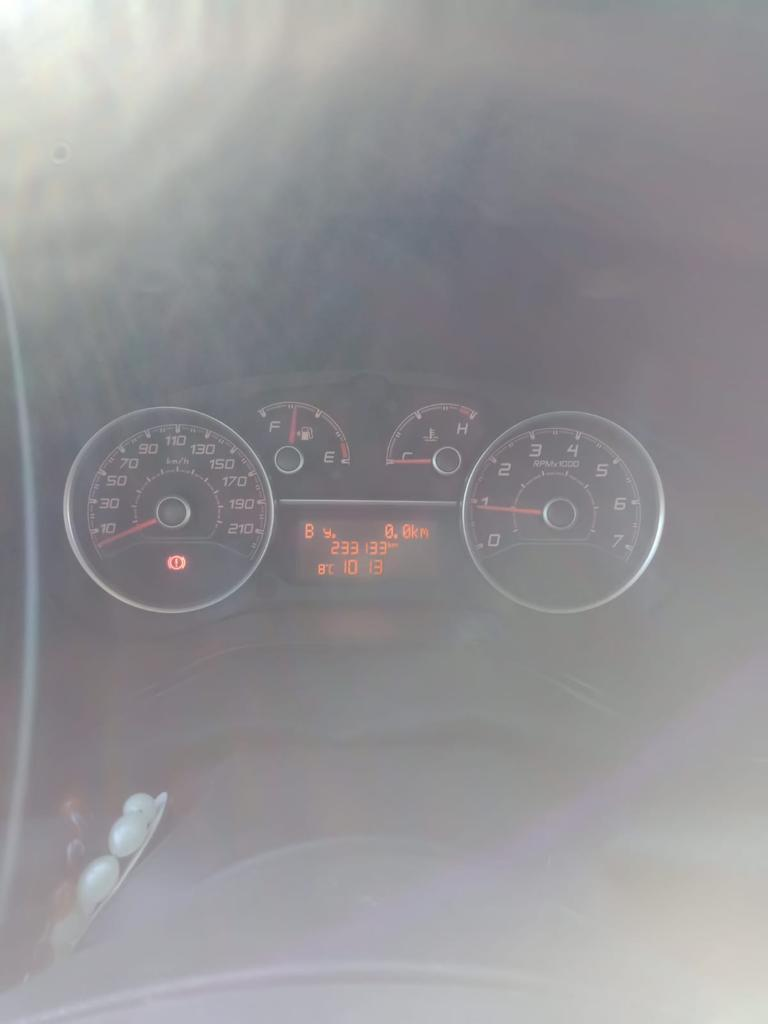,: (331, 532, 336, 539), (393, 532, 397, 539)
0: (347, 558, 358, 575), (383, 522, 394, 539), (401, 523, 411, 539)
1: (342, 558, 347, 575), (363, 541, 368, 555), (368, 558, 372, 575)
2: (329, 540, 339, 555)
3: (373, 558, 383, 575), (368, 540, 378, 555), (349, 540, 359, 555), (340, 539, 349, 555), (378, 540, 386, 555)
8: (317, 563, 325, 575)
X: (303, 522, 315, 539), (321, 527, 331, 539), (411, 523, 418, 539), (418, 527, 428, 538), (328, 562, 335, 575), (391, 542, 397, 549), (387, 539, 391, 549)
odometer: (286, 513, 446, 588)
